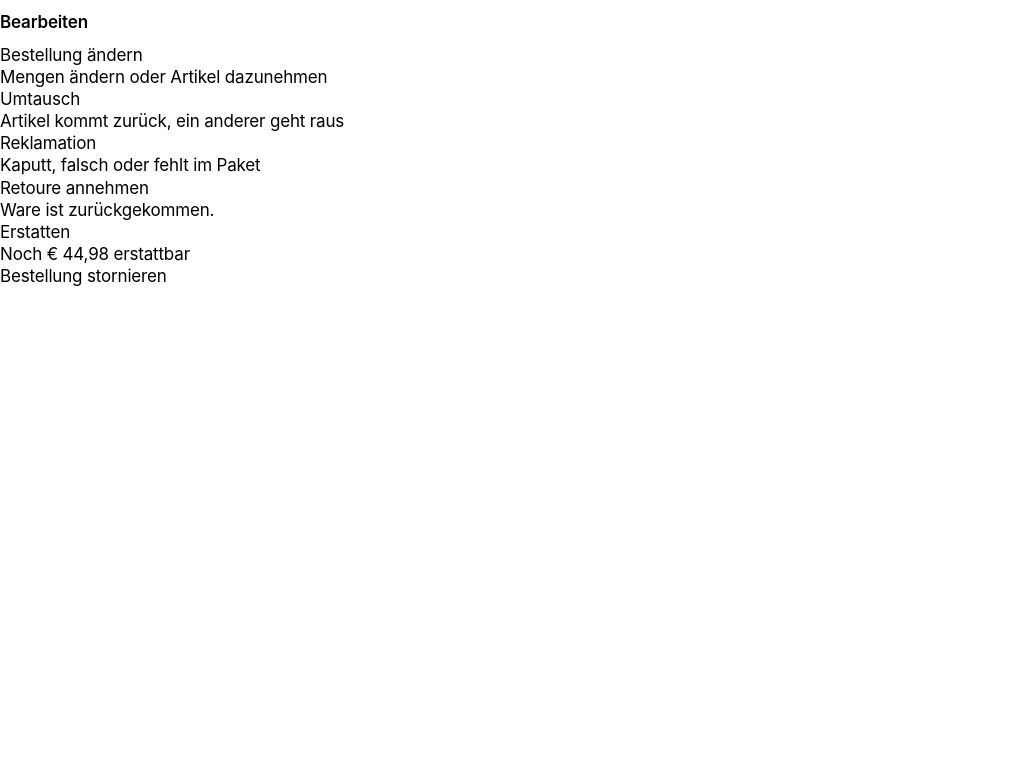
Test: capture, mark paid, cancel need a confirmation › cancel is a red button in a sheet that names the order and the shop
Later steps or results of the test are not shown.
Click the button "Bestellung stornieren" at (83, 276), box [0,265,1023,287]
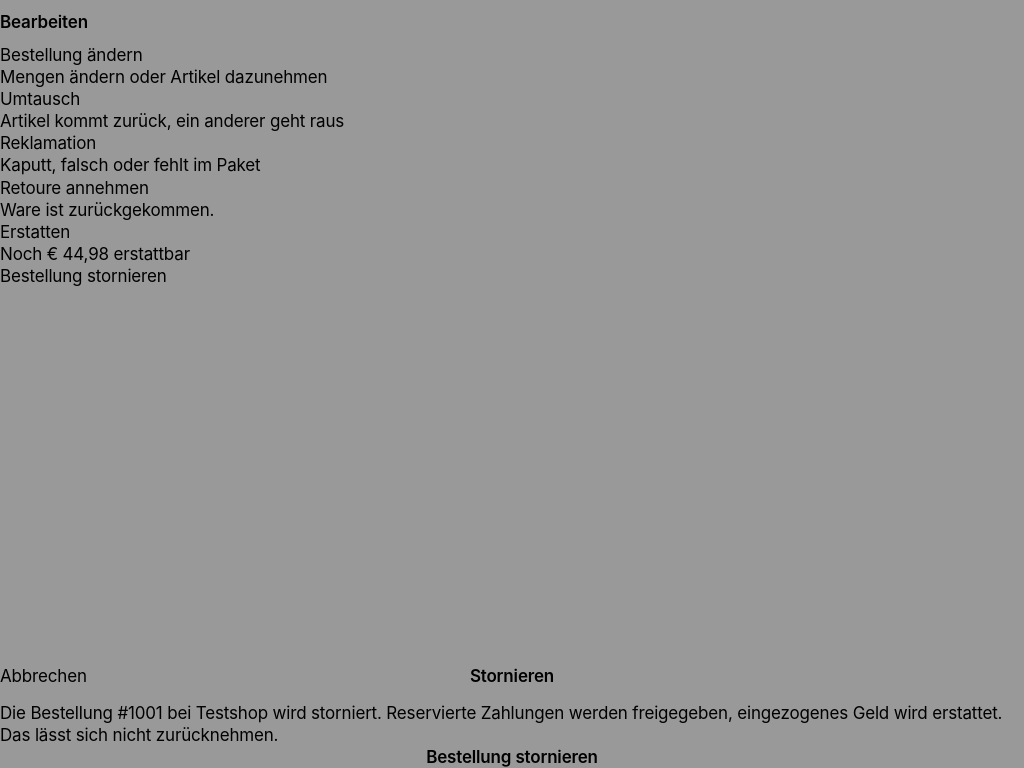
Result: the text "#1001 bei Testshop" is shown at [0,703,1002,745]
